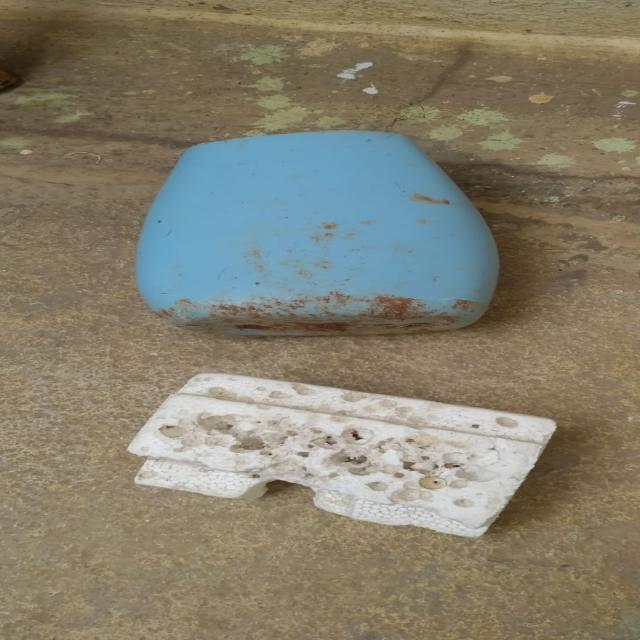paper: (99, 365, 617, 591)
plastic: (117, 127, 552, 348)
